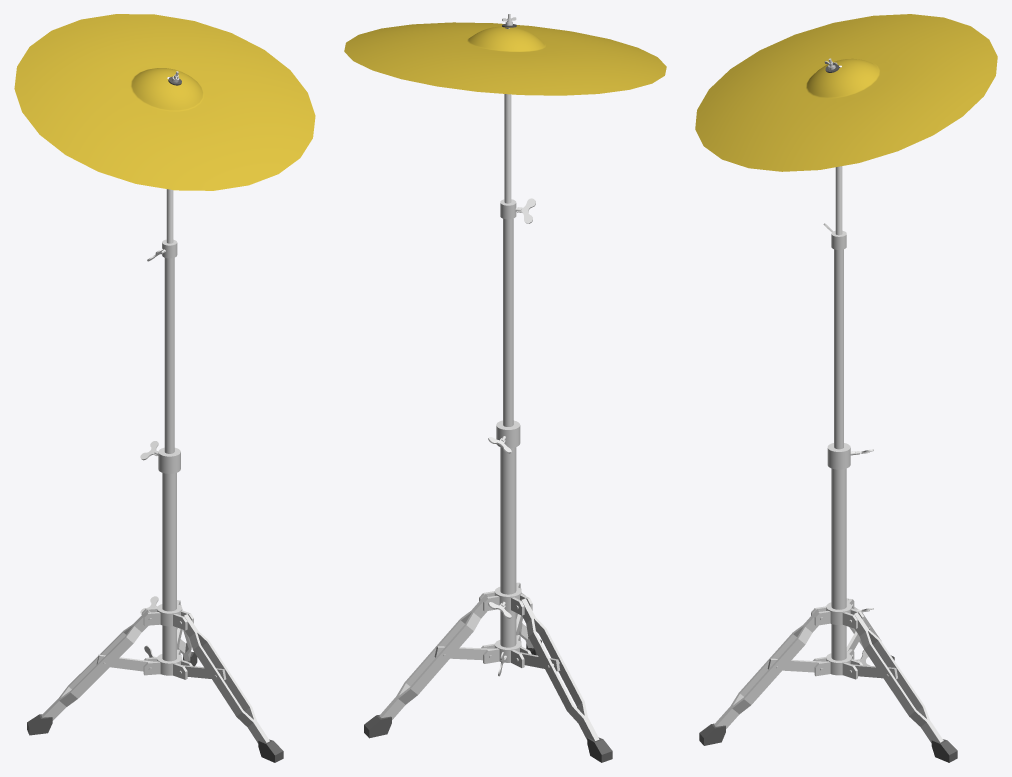
Rendered from LeftCrash.glb.
3 renders of one model, left to right at view 1: azimuth 30°, elevation 25°; view 2: azimuth 150°, elevation 25°; view 3: azimuth 270°, elevation 25°, orthographic. The views are drawn at different scales.
Parts seen in each view (by area): view 1: 3DGeom-189, 3DGeom-103 (×2), 3DGeom-209; view 2: 3DGeom-189, 3DGeom-103 (×2), 3DGeom-209, 3DGeom-210; view 3: 3DGeom-189, 3DGeom-103 (×2), 3DGeom-209, 3DGeom-210.
Boxes of the visible parts, left/top/right/bottom form: 3DGeom-189: left=14, top=14, right=315, bottom=190; 3DGeom-103 (×2): left=41, top=607, right=269, bottom=743; 3DGeom-209: left=157, top=239, right=182, bottom=675; 3DGeom-189: left=344, top=22, right=666, bottom=95; 3DGeom-103 (×2): left=379, top=591, right=599, bottom=740; 3DGeom-209: left=494, top=199, right=521, bottom=662; 3DGeom-210: left=504, top=94, right=511, bottom=203; 3DGeom-189: left=695, top=14, right=997, bottom=171; 3DGeom-103 (×2): left=714, top=606, right=943, bottom=742; 3DGeom-209: left=826, top=230, right=851, bottom=675; 3DGeom-210: left=835, top=166, right=842, bottom=235.
Size of the model in its own units: 0.4744 by 1.12 by 0.4629.
